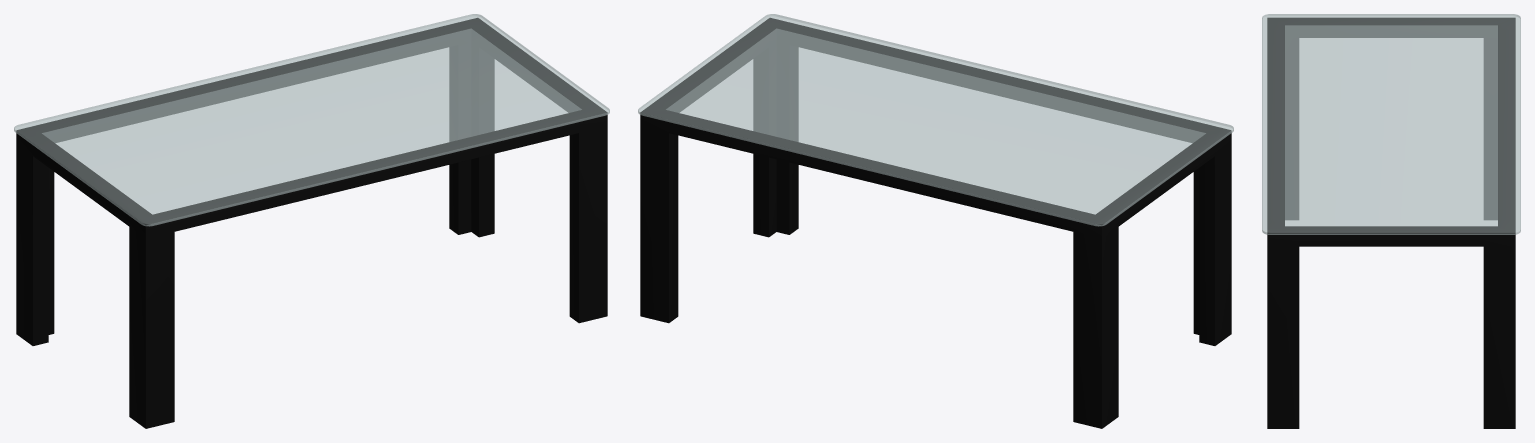
Rendered from glass_table.glb.
3 views of the same model, side by side, from view 1: azimuth 30°, elevation 25°; view 2: azimuth 150°, elevation 25°; view 3: azimuth 270°, elevation 25° (orthographic). The views are drawn at different scales.
Visible parts, largest first — view 1: Glass, StructureTable; view 2: Glass, StructureTable; view 3: Glass, StructureTable.
Boxes of the visible parts, left/top/right/bottom form: Glass: left=14, top=14, right=609, bottom=226; StructureTable: left=16, top=18, right=607, bottom=428; Glass: left=638, top=14, right=1233, bottom=226; StructureTable: left=640, top=18, right=1231, bottom=428; Glass: left=1262, top=14, right=1520, bottom=234; StructureTable: left=1267, top=17, right=1515, bottom=428.
Bounding box in the file's own units: 1.8 × 0.7594 × 0.9.
Materials: 2 (1 with a texture image).
